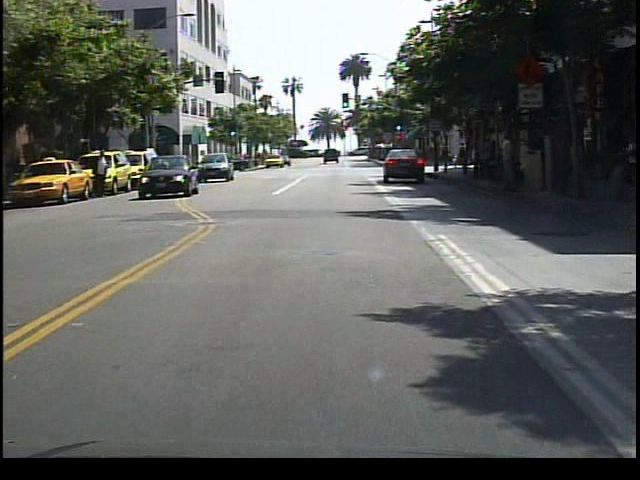person: (496, 130, 522, 200), (92, 147, 113, 210)
